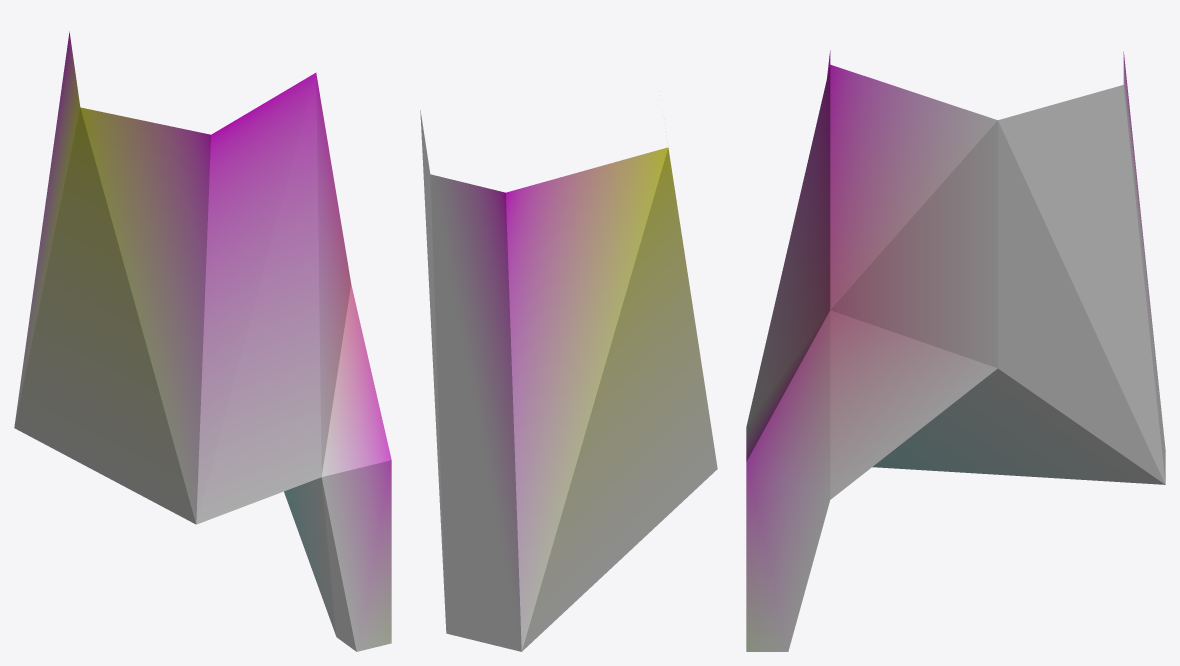
3 renders of one model, left to right at view 1: azimuth 30°, elevation 25°; view 2: azimuth 150°, elevation 25°; view 3: azimuth 270°, elevation 25°, orthographic. The views are drawn at different scales.
Parts seen in each view (by area): view 1: model_117C; view 2: model_117C; view 3: model_117C.
Part boxes in pixels (x1,y1,x2,y2): model_117C: (14,31,391,651); model_117C: (420,110,717,651); model_117C: (746,50,1165,651).
Bounding box in the file's own units: 6 × 15 × 10.
